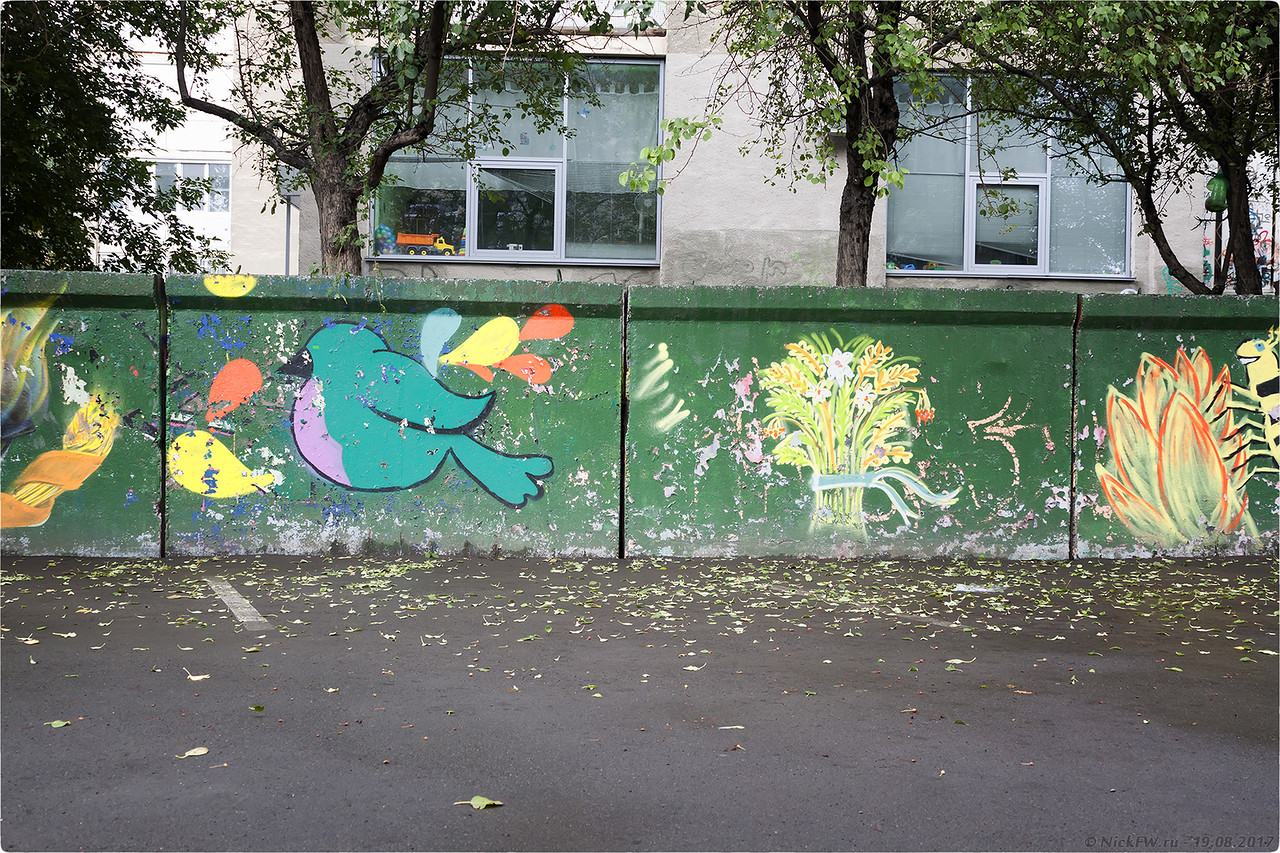graphite: (289, 319, 567, 528), (753, 329, 962, 556), (1087, 327, 1280, 550), (1, 309, 129, 568), (164, 345, 290, 514), (201, 274, 274, 301)
